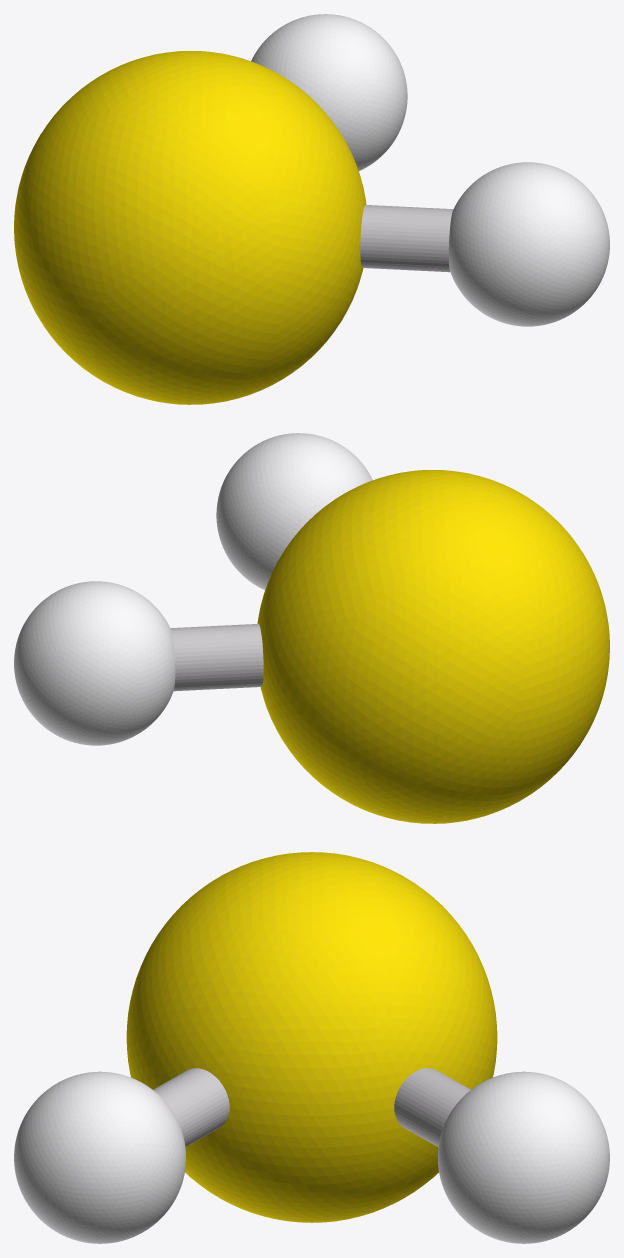
The model's file is hydrogen_sulfide.glb.
3 views of the same model, one above another, from view 1: azimuth 30°, elevation 25°; view 2: azimuth 150°, elevation 25°; view 3: azimuth 270°, elevation 25° (orthographic). The views are drawn at different scales.
Parts seen in each view (by area): view 1: Sulfur_S, Hydrogen_H1, Hydrogen_H2, S-H1_bond; view 2: Sulfur_S, Hydrogen_H2, Hydrogen_H1, S-H2_bond; view 3: Sulfur_S, Hydrogen_H1, Hydrogen_H2, S-H1_bond, S-H2_bond.
Part boxes in pixels (x1,y1,x2,y2): Sulfur_S: [14, 51, 366, 404]; Hydrogen_H1: [448, 162, 609, 326]; Hydrogen_H2: [251, 14, 407, 170]; S-H1_bond: [360, 205, 453, 272]; Sulfur_S: [257, 470, 609, 823]; Hydrogen_H2: [14, 581, 175, 745]; Hydrogen_H1: [216, 433, 372, 589]; S-H2_bond: [170, 624, 263, 691]; Sulfur_S: [126, 852, 497, 1222]; Hydrogen_H1: [14, 1071, 185, 1243]; Hydrogen_H2: [438, 1071, 609, 1243]; S-H1_bond: [153, 1068, 229, 1147]; S-H2_bond: [394, 1068, 470, 1147].
Size of the model in its own units: 3.36 by 2.24 by 3.6.
